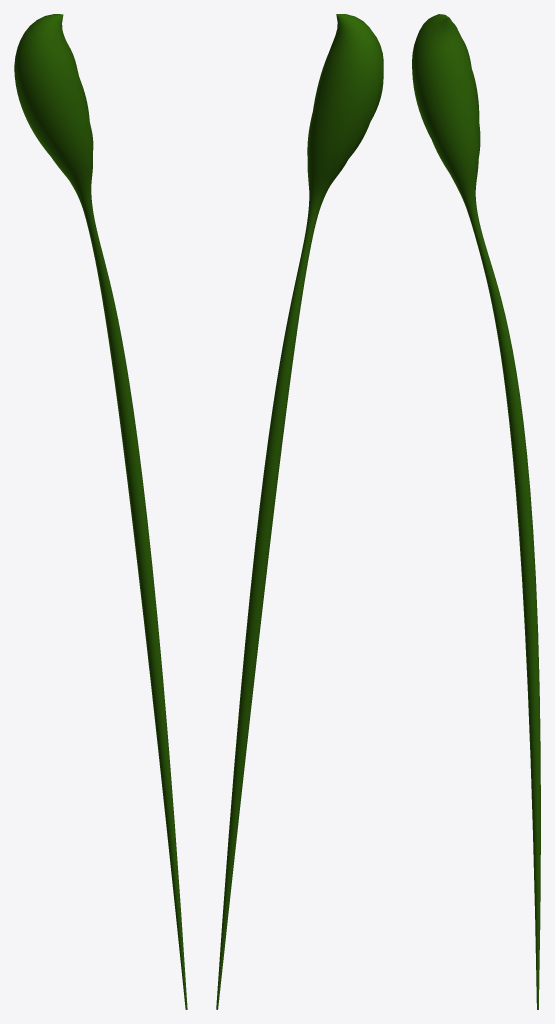
3 views of the same model, side by side, from view 1: azimuth 30°, elevation 25°; view 2: azimuth 210°, elevation 25°; view 3: azimuth 330°, elevation 25° (orthographic). The views are drawn at different scales.
Visible parts, largest first — view 1: ТраекторияNurbs.017; view 2: ТраекторияNurbs.017; view 3: ТраекторияNurbs.017.
Part boxes in pixels (box(x1,y1,x2,y2)): ТраекторияNurbs.017: box(14, 14, 187, 1009); ТраекторияNurbs.017: box(216, 14, 383, 1009); ТраекторияNurbs.017: box(412, 14, 540, 1009).
Bounding box in the file's own units: 77.07 × 499 × 32.26.
